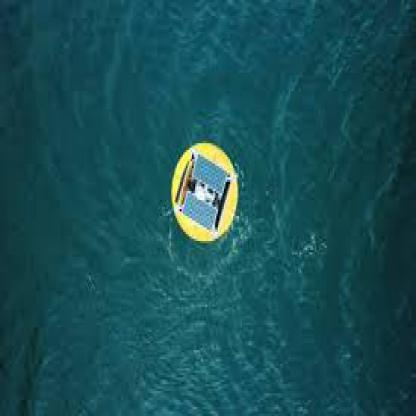buoy: (154, 127, 248, 264)
